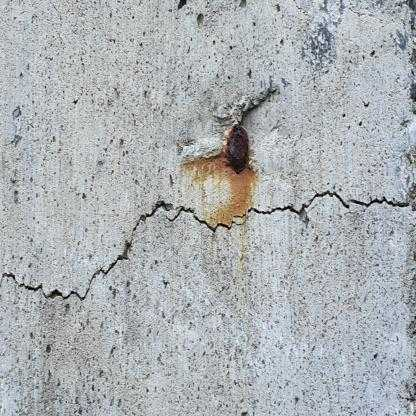crack: (17, 189, 350, 304), (349, 183, 415, 215), (0, 271, 17, 290)
